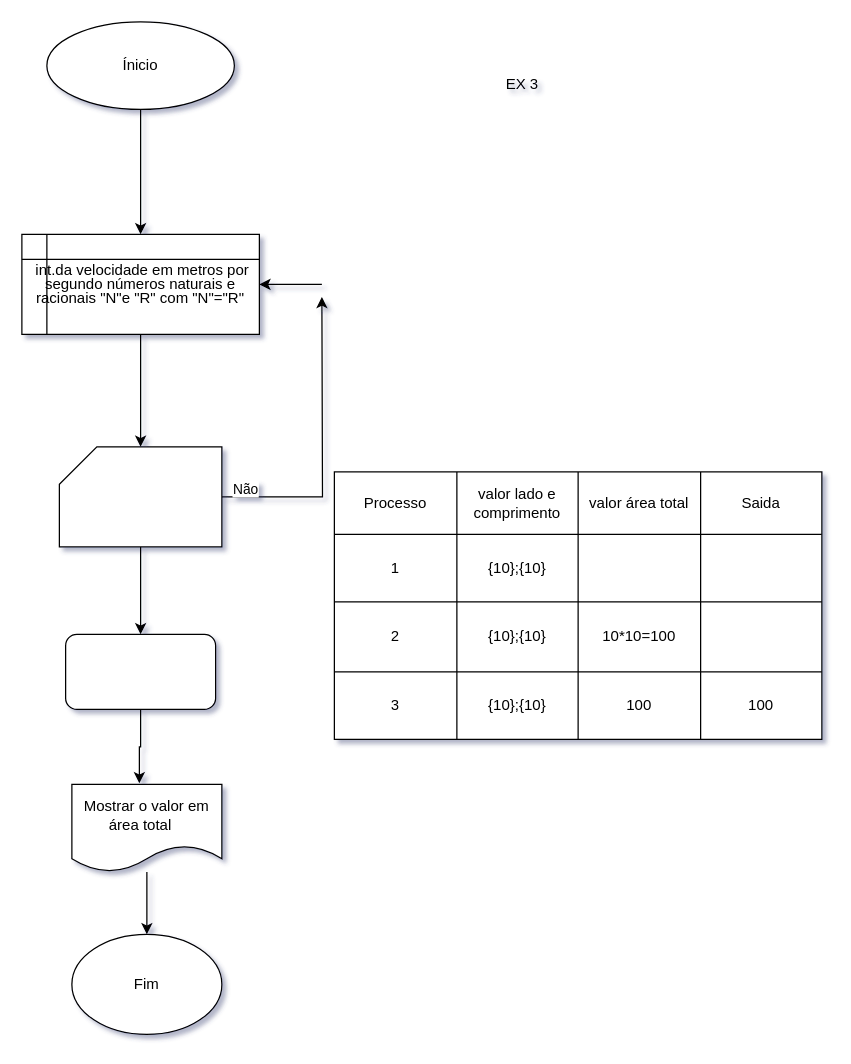
This 851x1064 diagram has some shape labels left out. The centre of each missing label's shape, as x and y in pixels:
"Converter o valor da área L*L" goes at (140,671).
"introduzir o valor do comprimento e também da altura valores iguais L;L;" goes at (140,496).
